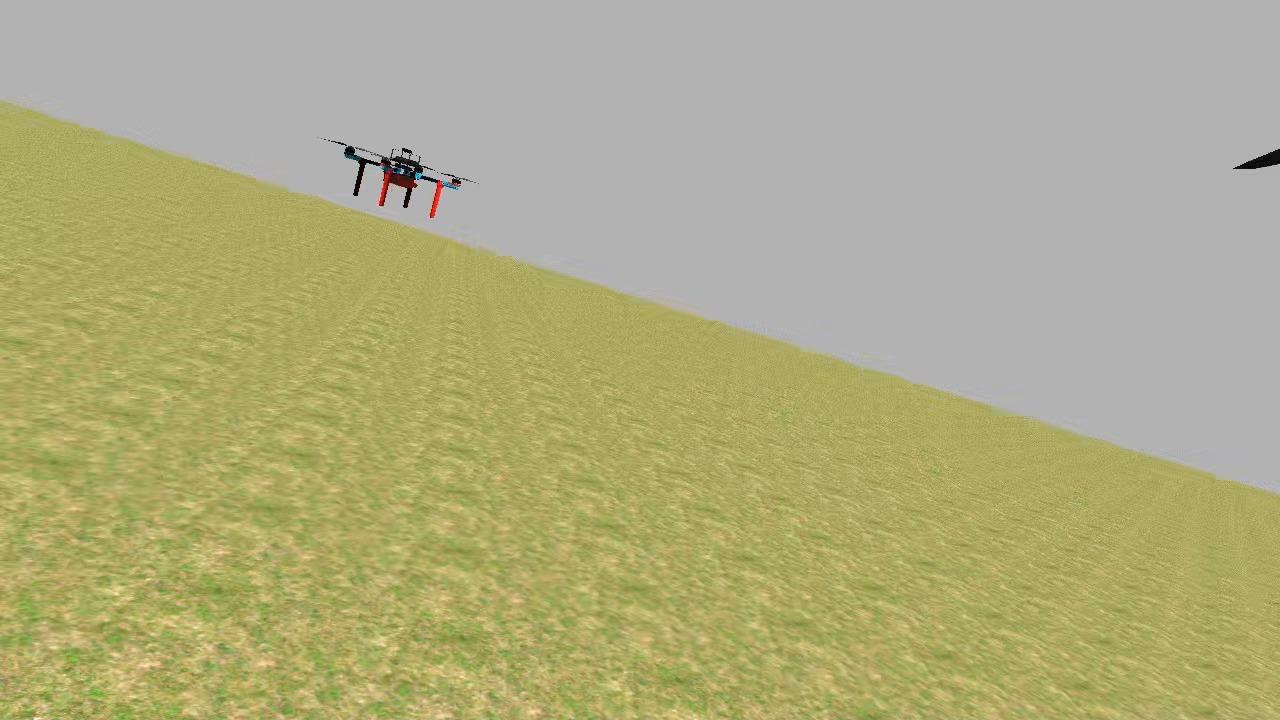UAV: (300, 124, 500, 232)
